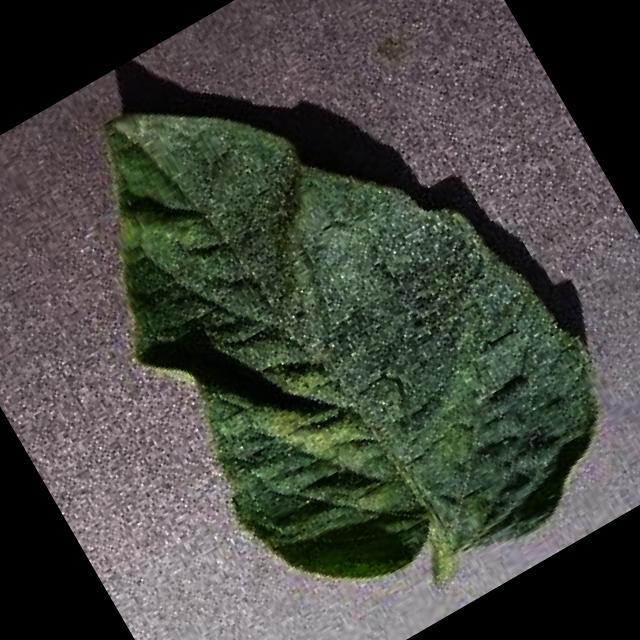Tomato spider mites leaf: (24, 0, 640, 640)
